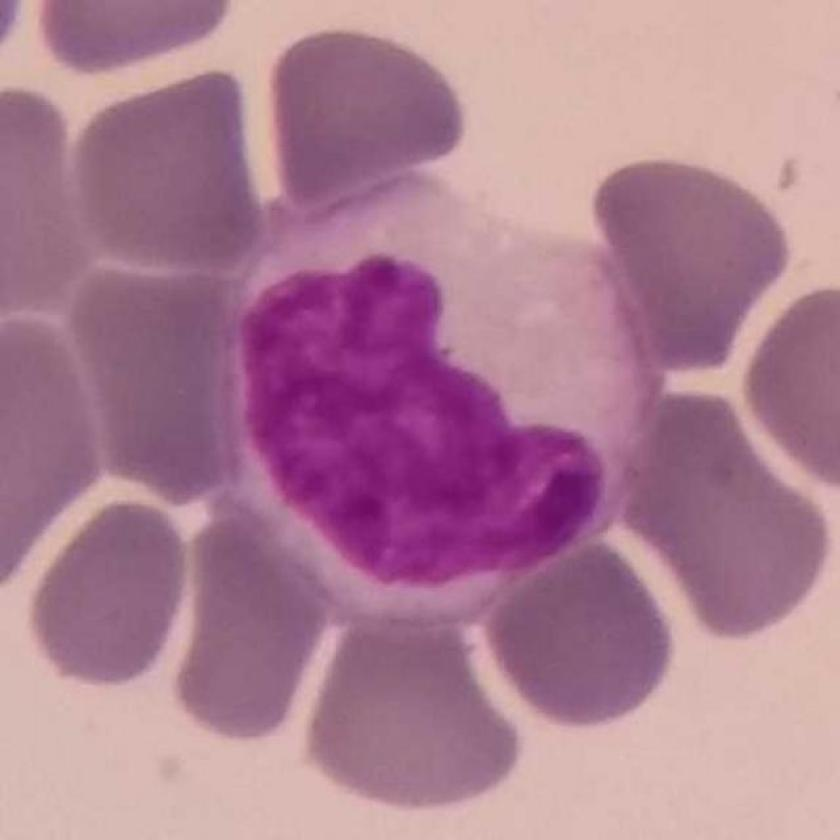monocyte: (215, 159, 676, 638)
